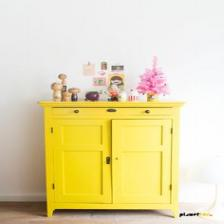yellow: (39, 102, 184, 218)
